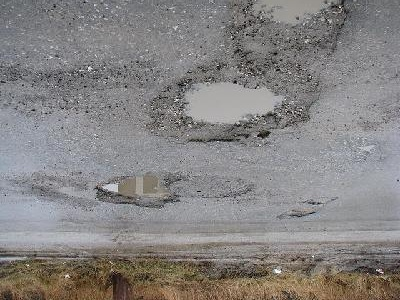pothole: (145, 58, 327, 148), (220, 0, 351, 55), (92, 169, 182, 210), (276, 208, 317, 222), (301, 195, 336, 207)
